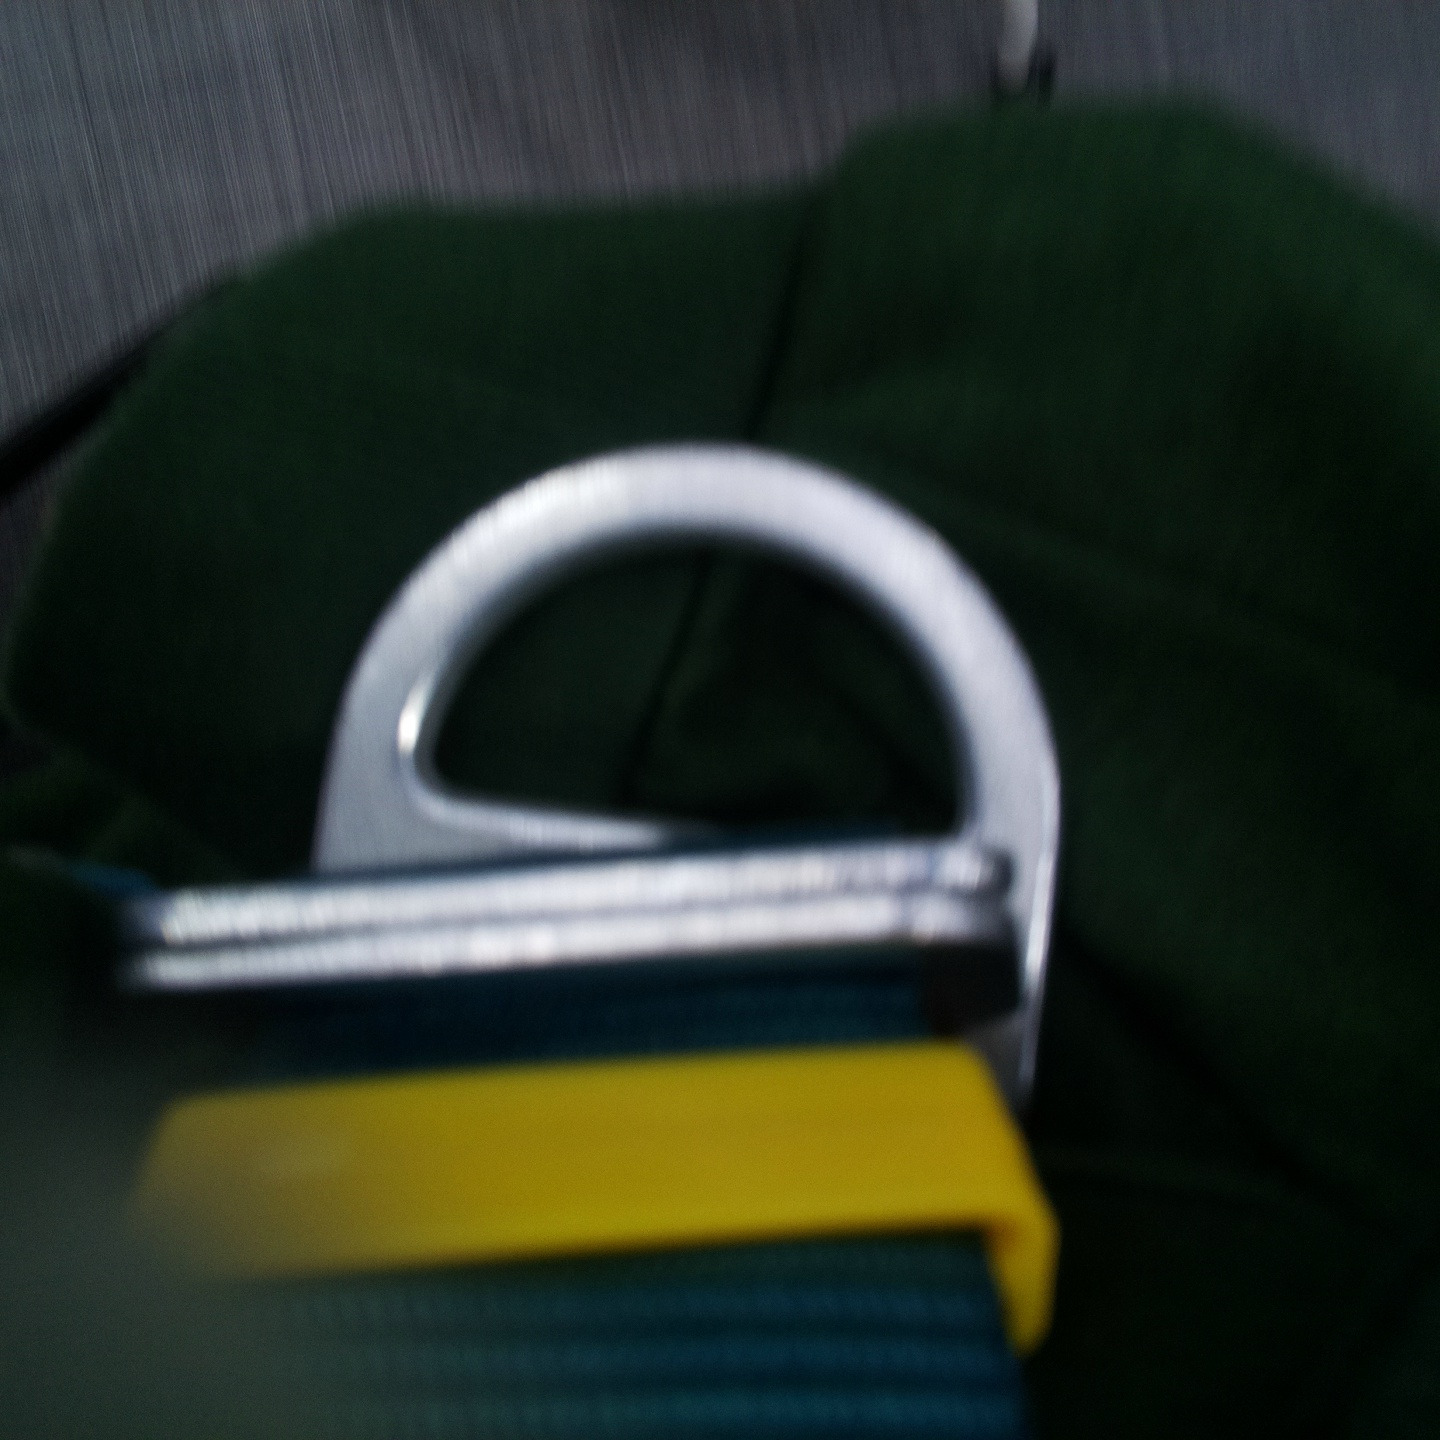UNSUCCESS: (303, 433, 1068, 881)
